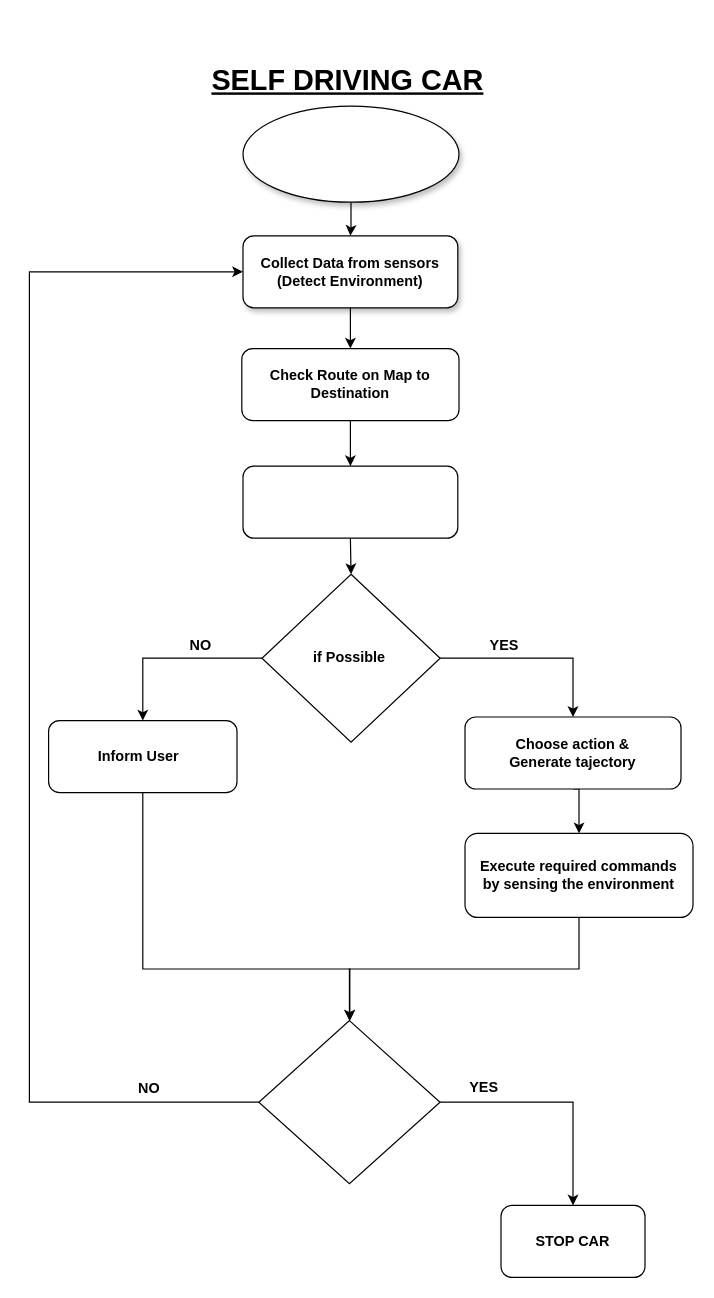
Image size: 714x1298. Some labels were removed from this diagram. The shapes that lost their labels are listed below. From the top down, each one's centre as x and y in pixels, then its label:
point (351, 155): Car Started
point (350, 501): Check Possibility to reach destination
point (349, 1101): if Destination reached
